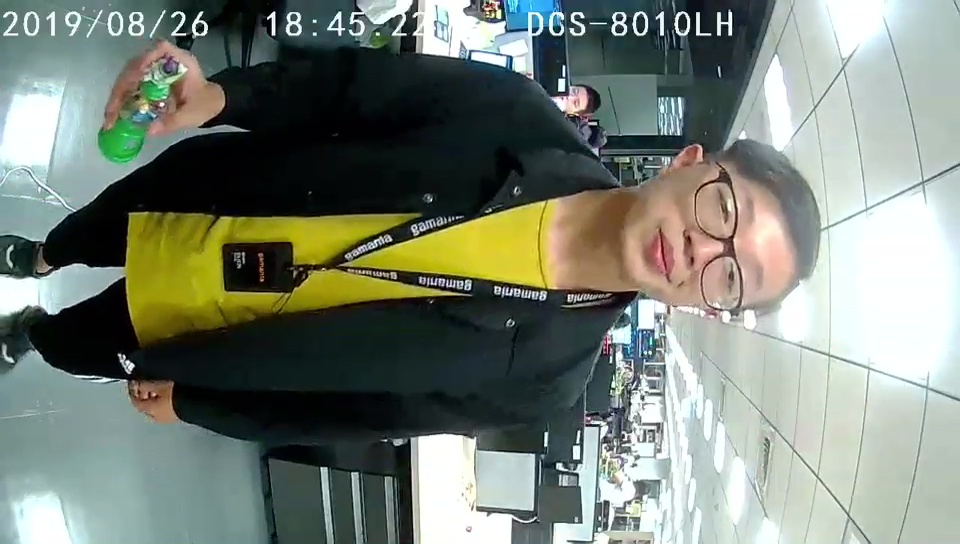buzz: (98, 55, 188, 163)
